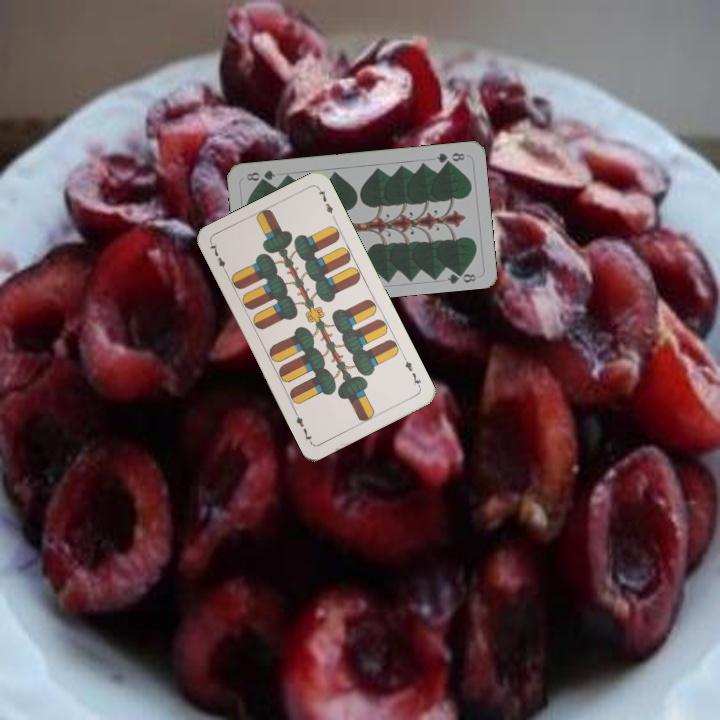E7: (400, 353, 424, 391), (206, 239, 230, 277)
G8: (432, 149, 468, 166)
